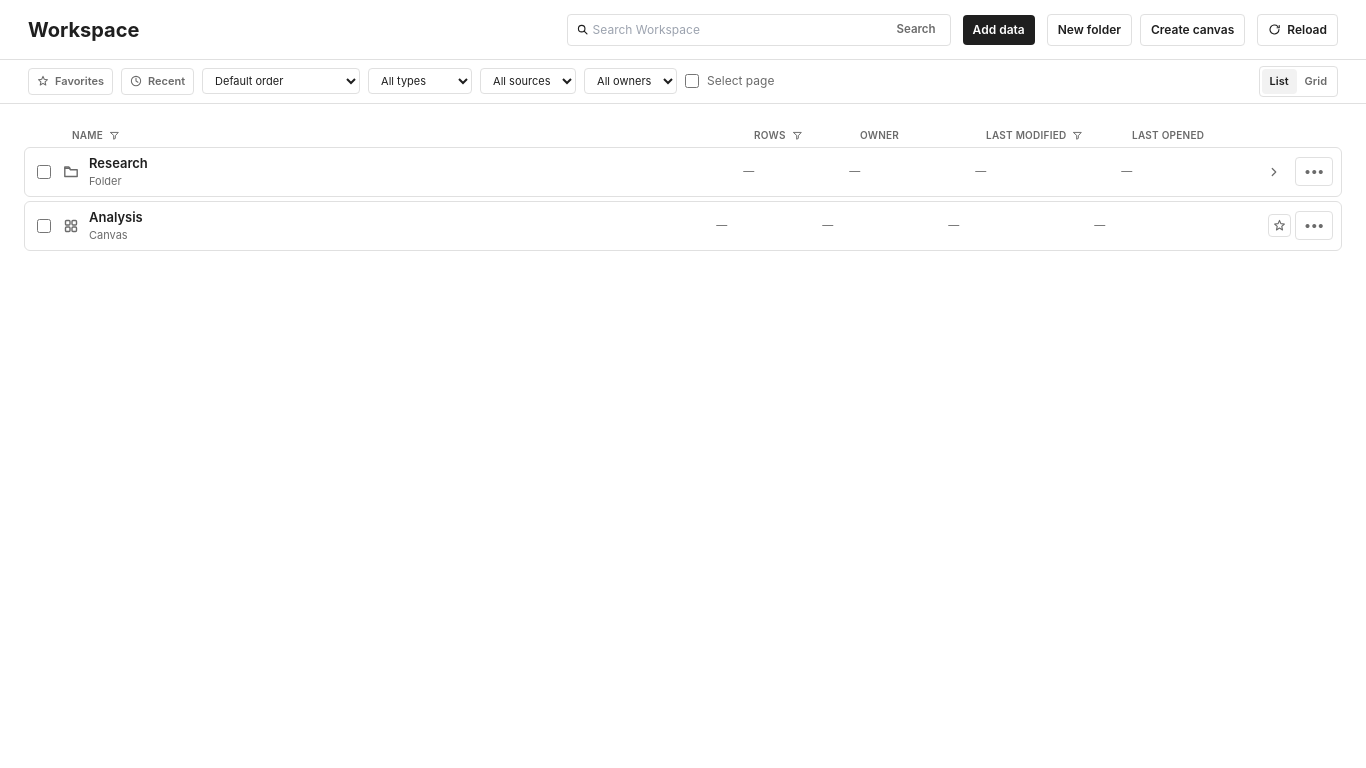
Test: WorkspaceExplorer › opens item and folder actions from the right-click location
Click the checkbox named "Select Analysis" at point(44, 226), box x1=37 y1=218 x2=51 y2=232
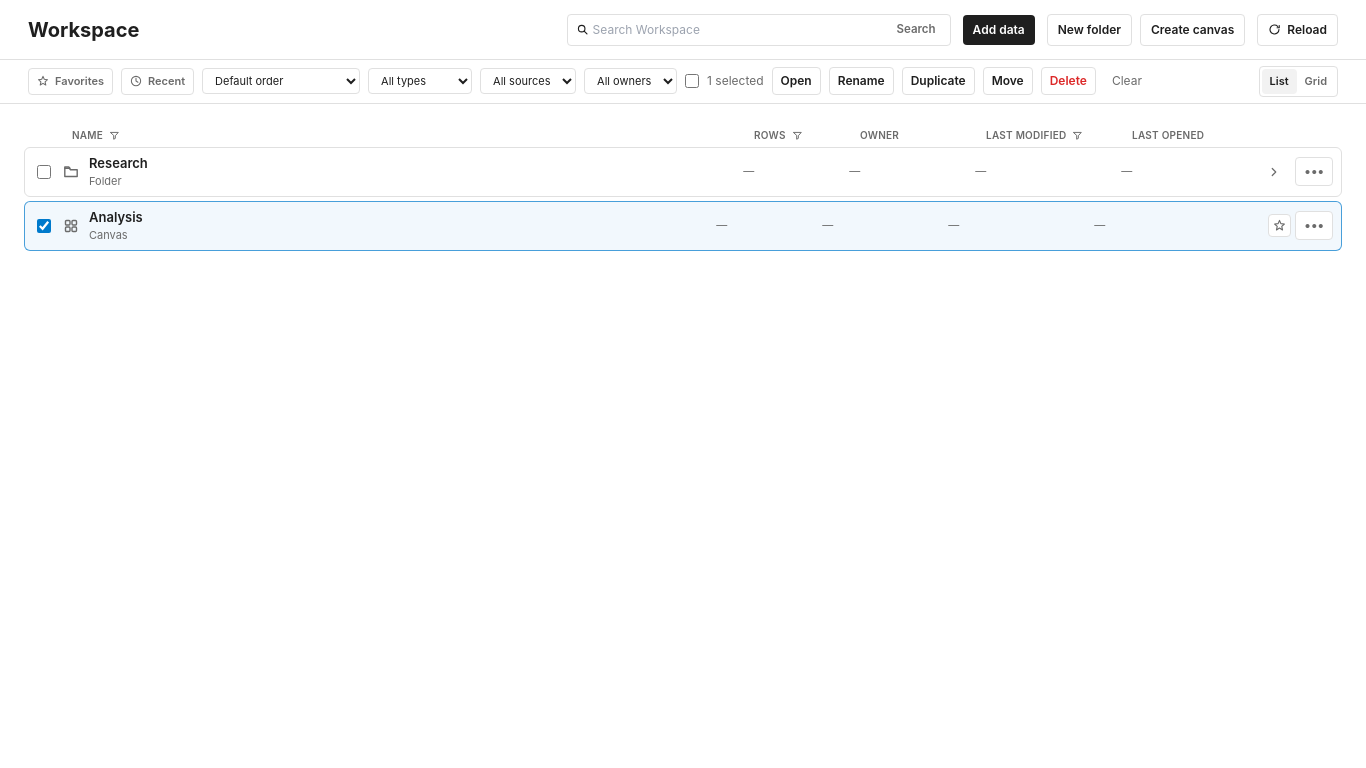
Right-click the button with aria-label "Open folder Research" at point(118, 162), box x1=51 y1=148 x2=1295 y2=196
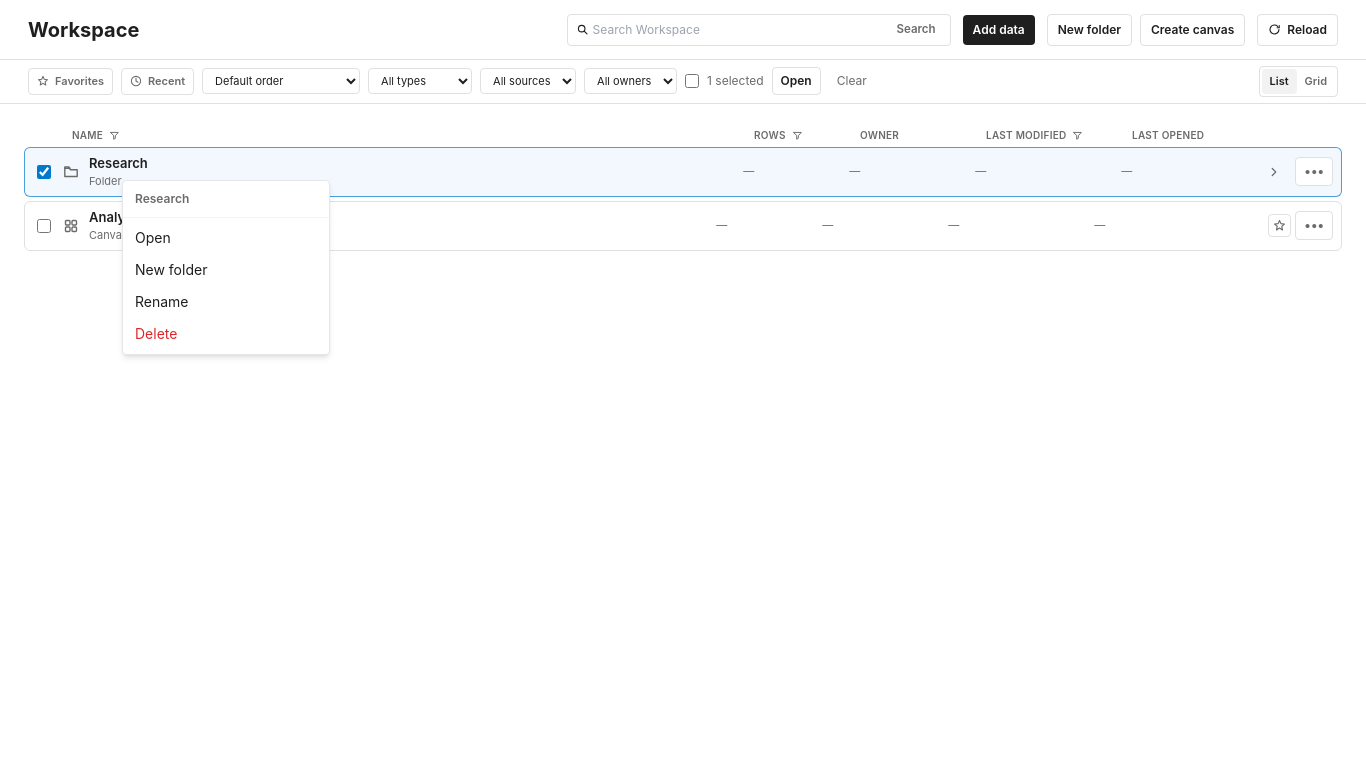
Expected: the checkbox named "Select Analysis" is not checked, x1=37 y1=218 x2=51 y2=232
Expected: the checkbox named "Select Research" is checked, x1=37 y1=164 x2=51 y2=178
Press Escape
Right-click the element with test id "workspace-scroll-surface" at point(683, 190), box x1=24 y1=128 x2=1342 y2=250
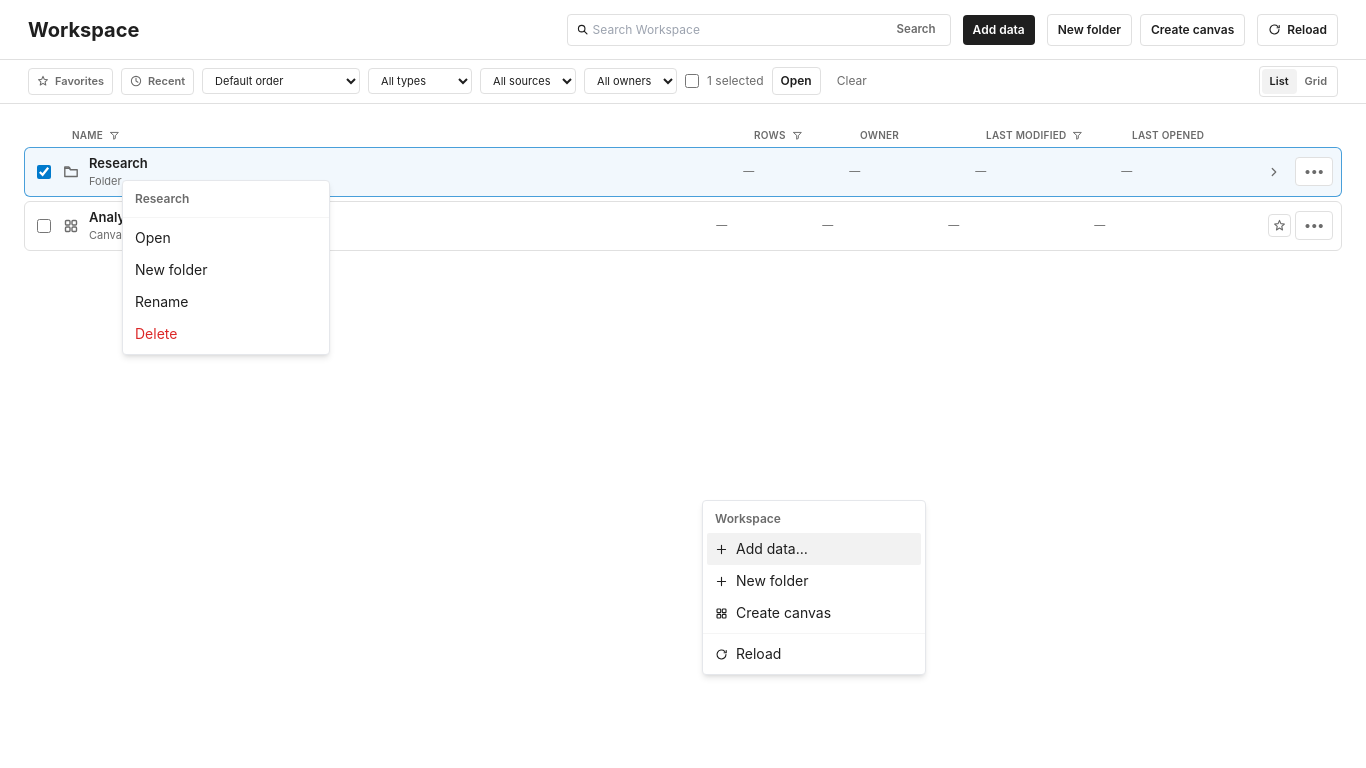
Expected: the menu item "Add data…" is shown, x1=707 y1=533 x2=921 y2=565
Expected: the menu item "New folder" below "Add data…" is shown, x1=715 y1=572 x2=808 y2=589
Expected: the menu item "Create canvas" is shown, x1=715 y1=604 x2=831 y2=621
